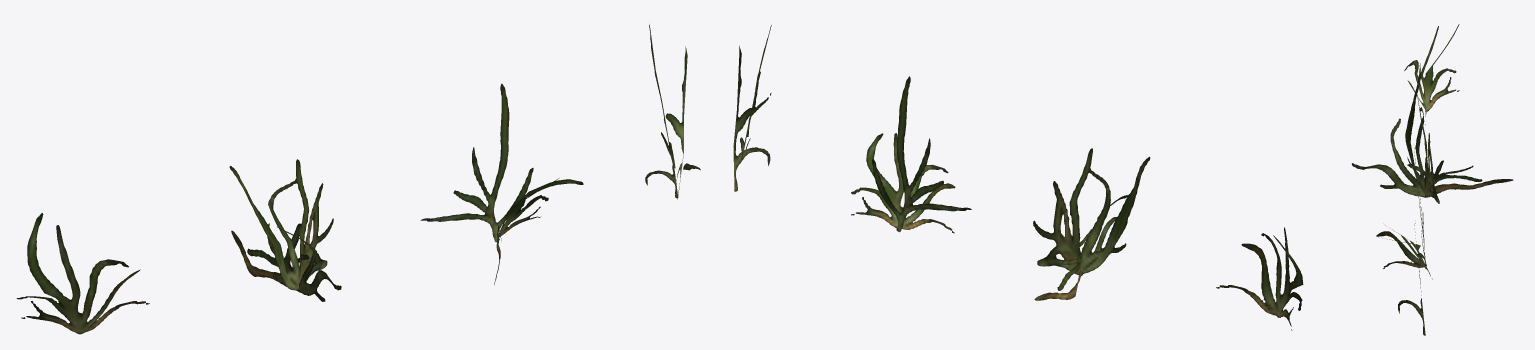
The model's file is grass_bermuda_01.glb.
The picture shows the model from 3 angles, left to right: view 1: azimuth 30°, elevation 25°; view 2: azimuth 150°, elevation 25°; view 3: azimuth 270°, elevation 25°; orthographic projection. The views are drawn at different scales.
Parts seen in each view (by area): view 1: grass_bermuda_01; view 2: grass_bermuda_01; view 3: grass_bermuda_01.
Boxes of the visible parts, x1=… form: grass_bermuda_01: x1=16, y1=24, x2=700, y2=334; grass_bermuda_01: x1=733, y1=25, x2=1303, y2=330; grass_bermuda_01: x1=1352, y1=24, x2=1513, y2=335.
Bounding box in the file's own units: 0.8836 × 0.28 × 0.272.
Materials: 1 (1 with a texture image).
